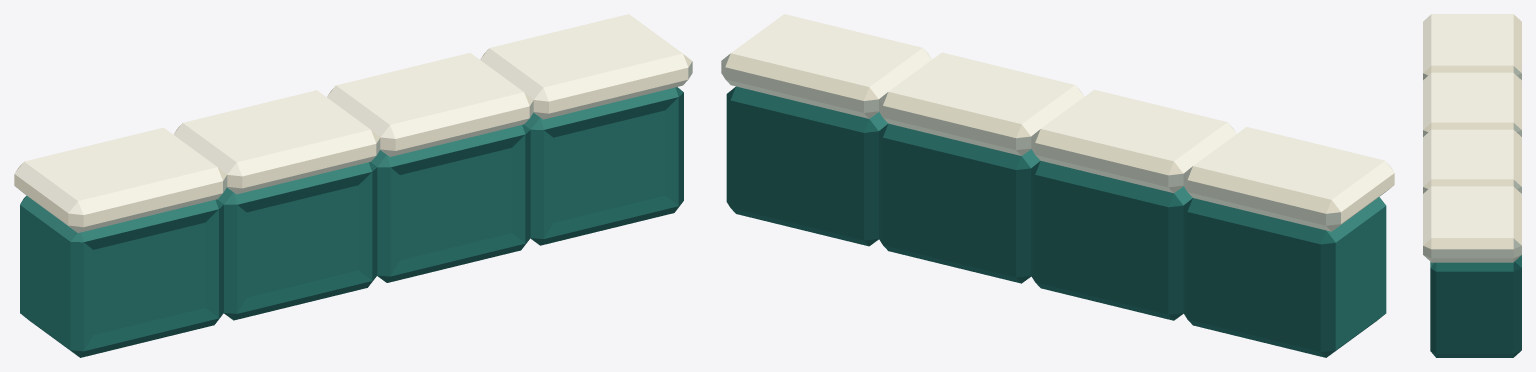
File: Terrain_TopRun4LR.gltf
3 views of the same model, side by side, from view 1: azimuth 30°, elevation 25°; view 2: azimuth 150°, elevation 25°; view 3: azimuth 270°, elevation 25° (orthographic). The views are drawn at different scales.
Visible parts, largest first — view 1: Terrain_TopRun4LR_baked; view 2: Terrain_TopRun4LR_baked; view 3: Terrain_TopRun4LR_baked.
Part boxes in pixels (x1,y1,x2,y2): Terrain_TopRun4LR_baked: (14, 14, 692, 357); Terrain_TopRun4LR_baked: (721, 14, 1394, 357); Terrain_TopRun4LR_baked: (1423, 14, 1521, 357).
Size of the model in its own units: 4.07 by 1 by 0.735.
